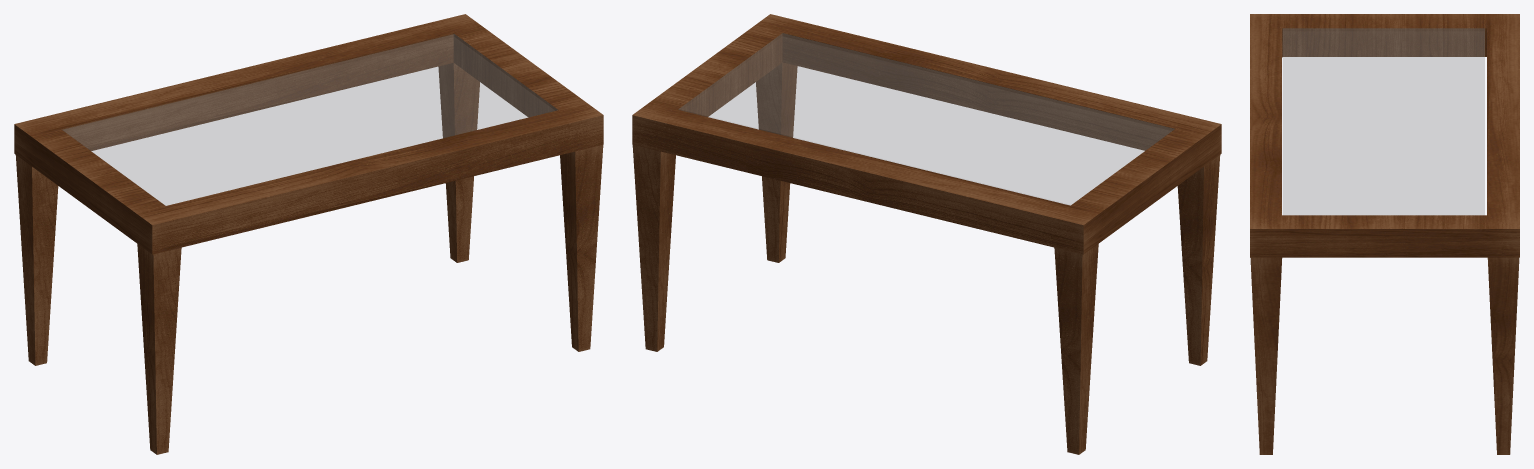
Rendered from Table 1.FBX.
3 views of the same model, side by side, from view 1: azimuth 30°, elevation 25°; view 2: azimuth 150°, elevation 25°; view 3: azimuth 270°, elevation 25° (orthographic). The views are drawn at different scales.
Visible parts, largest first — view 1: Table 1; view 2: Table 1; view 3: Table 1.
Boxes of the visible parts, x1,y1,x2,y2 form: Table 1: [14, 14, 603, 454]; Table 1: [632, 14, 1221, 454]; Table 1: [1250, 14, 1519, 454].
Size of the model in its own units: 160 by 80.01 by 85.
2 materials, 1 textured.
